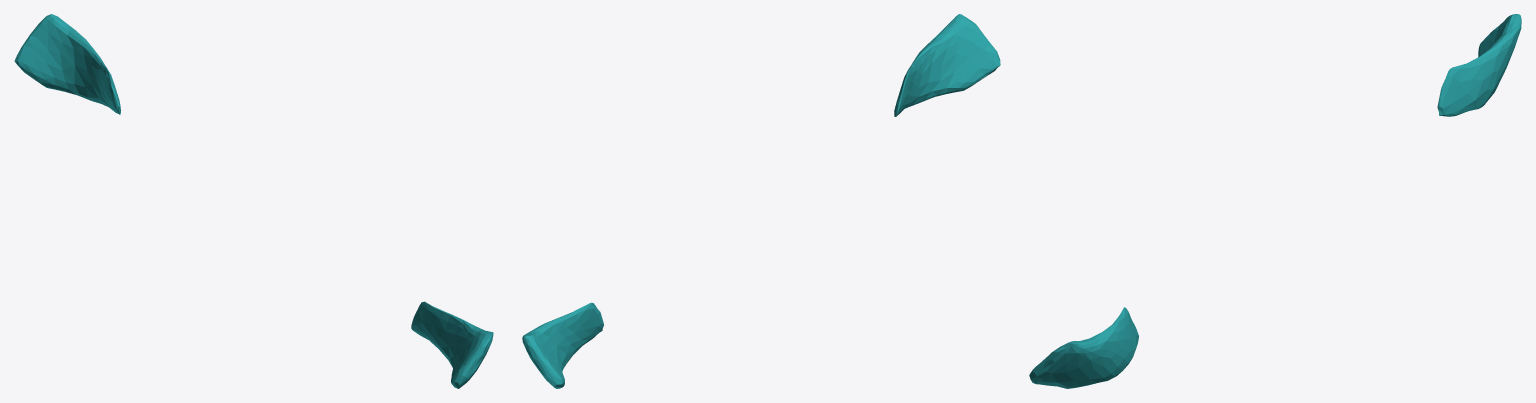
3 renders of one model, left to right at view 1: azimuth 30°, elevation 25°; view 2: azimuth 150°, elevation 25°; view 3: azimuth 330°, elevation 25°, orthographic. The views are drawn at different scales.
Visible parts, largest first — view 1: 269.obj; view 2: 269.obj; view 3: 269.obj.
Boxes of the visible parts, bbox=[...] form: 269.obj: bbox=[14, 14, 493, 388]; 269.obj: bbox=[522, 14, 1000, 388]; 269.obj: bbox=[1029, 14, 1521, 388].
Bounding box in the file's own units: 498 × 577 × 7648.
